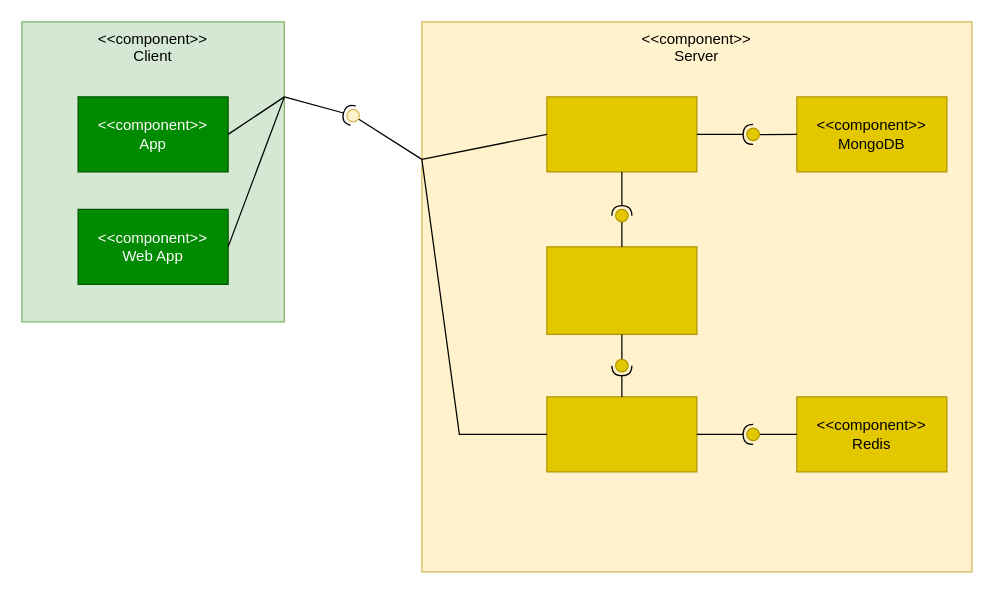
This 994x604 diagram has some shape labels left out. The shapes that lost their labels are listed below. From the top down, each one's centre as x and y in pixels, then its label:
At (621,134): "<<component>> API Service".
At (621,290): "<<component>> Message Broker".
At (621,434): "<<component>> Real-time Service".
